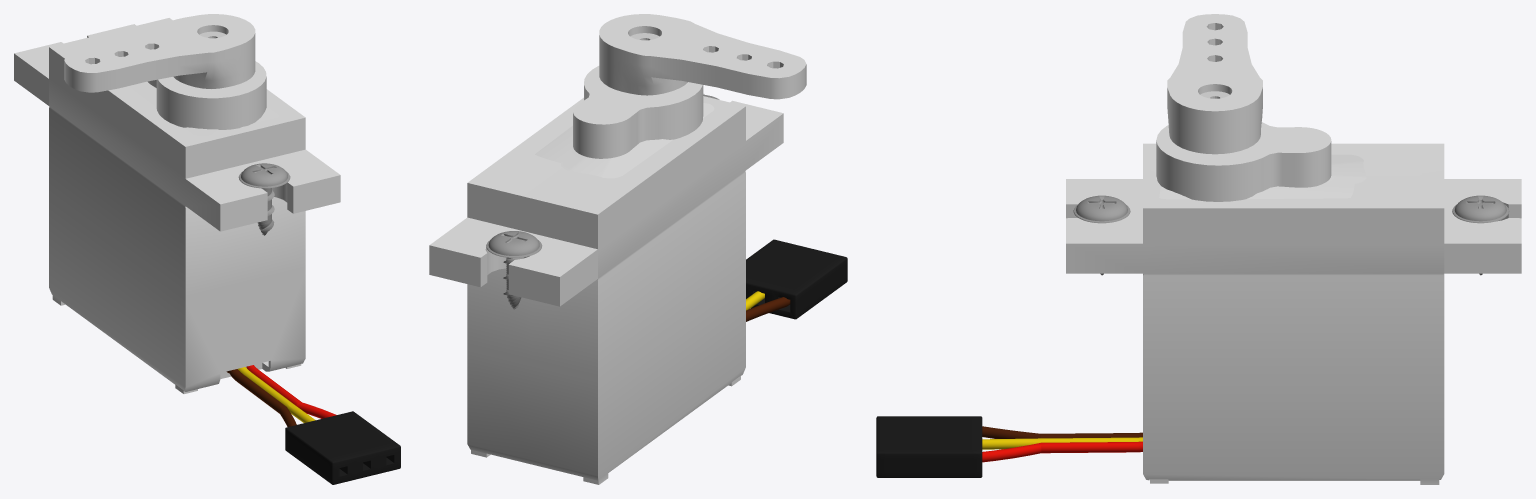
The model's file is servo sg90.fbx.
3 renders of one model, left to right at view 1: azimuth 30°, elevation 25°; view 2: azimuth 150°, elevation 25°; view 3: azimuth 270°, elevation 25°, orthographic. The views are drawn at different scales.
Parts seen in each view (by area): view 1: body.119, body.116, body.459; view 2: body.119, body.116, body.459; view 3: body.119, body.116, body.459.
Part boxes in pixels (<box>): body.119: <box>14,18,340,426</box>; body.116: <box>64,14,255,92</box>; body.459: <box>285,411,400,484</box>; body.119: <box>429,33,790,484</box>; body.116: <box>599,14,806,99</box>; body.459: <box>746,239,847,319</box>; body.119: <box>982,91,1521,484</box>; body.116: <box>1167,14,1262,154</box>; body.459: <box>876,416,982,477</box>.
Size of the model in its own units: 373 by 584 by 927.
